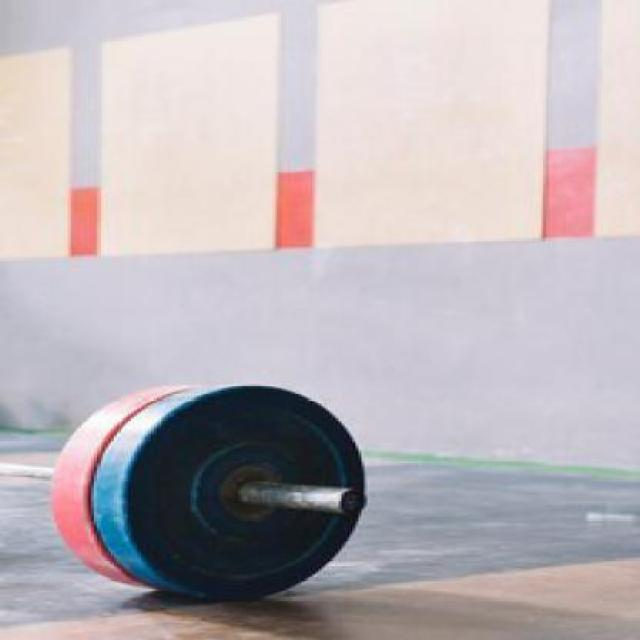barbell: (119, 382, 374, 609)
